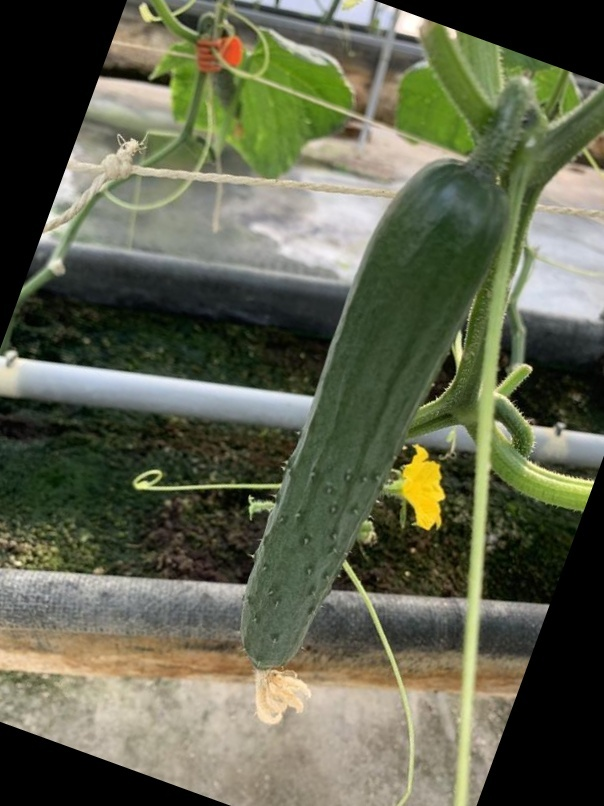mature: (224, 158, 509, 688)
